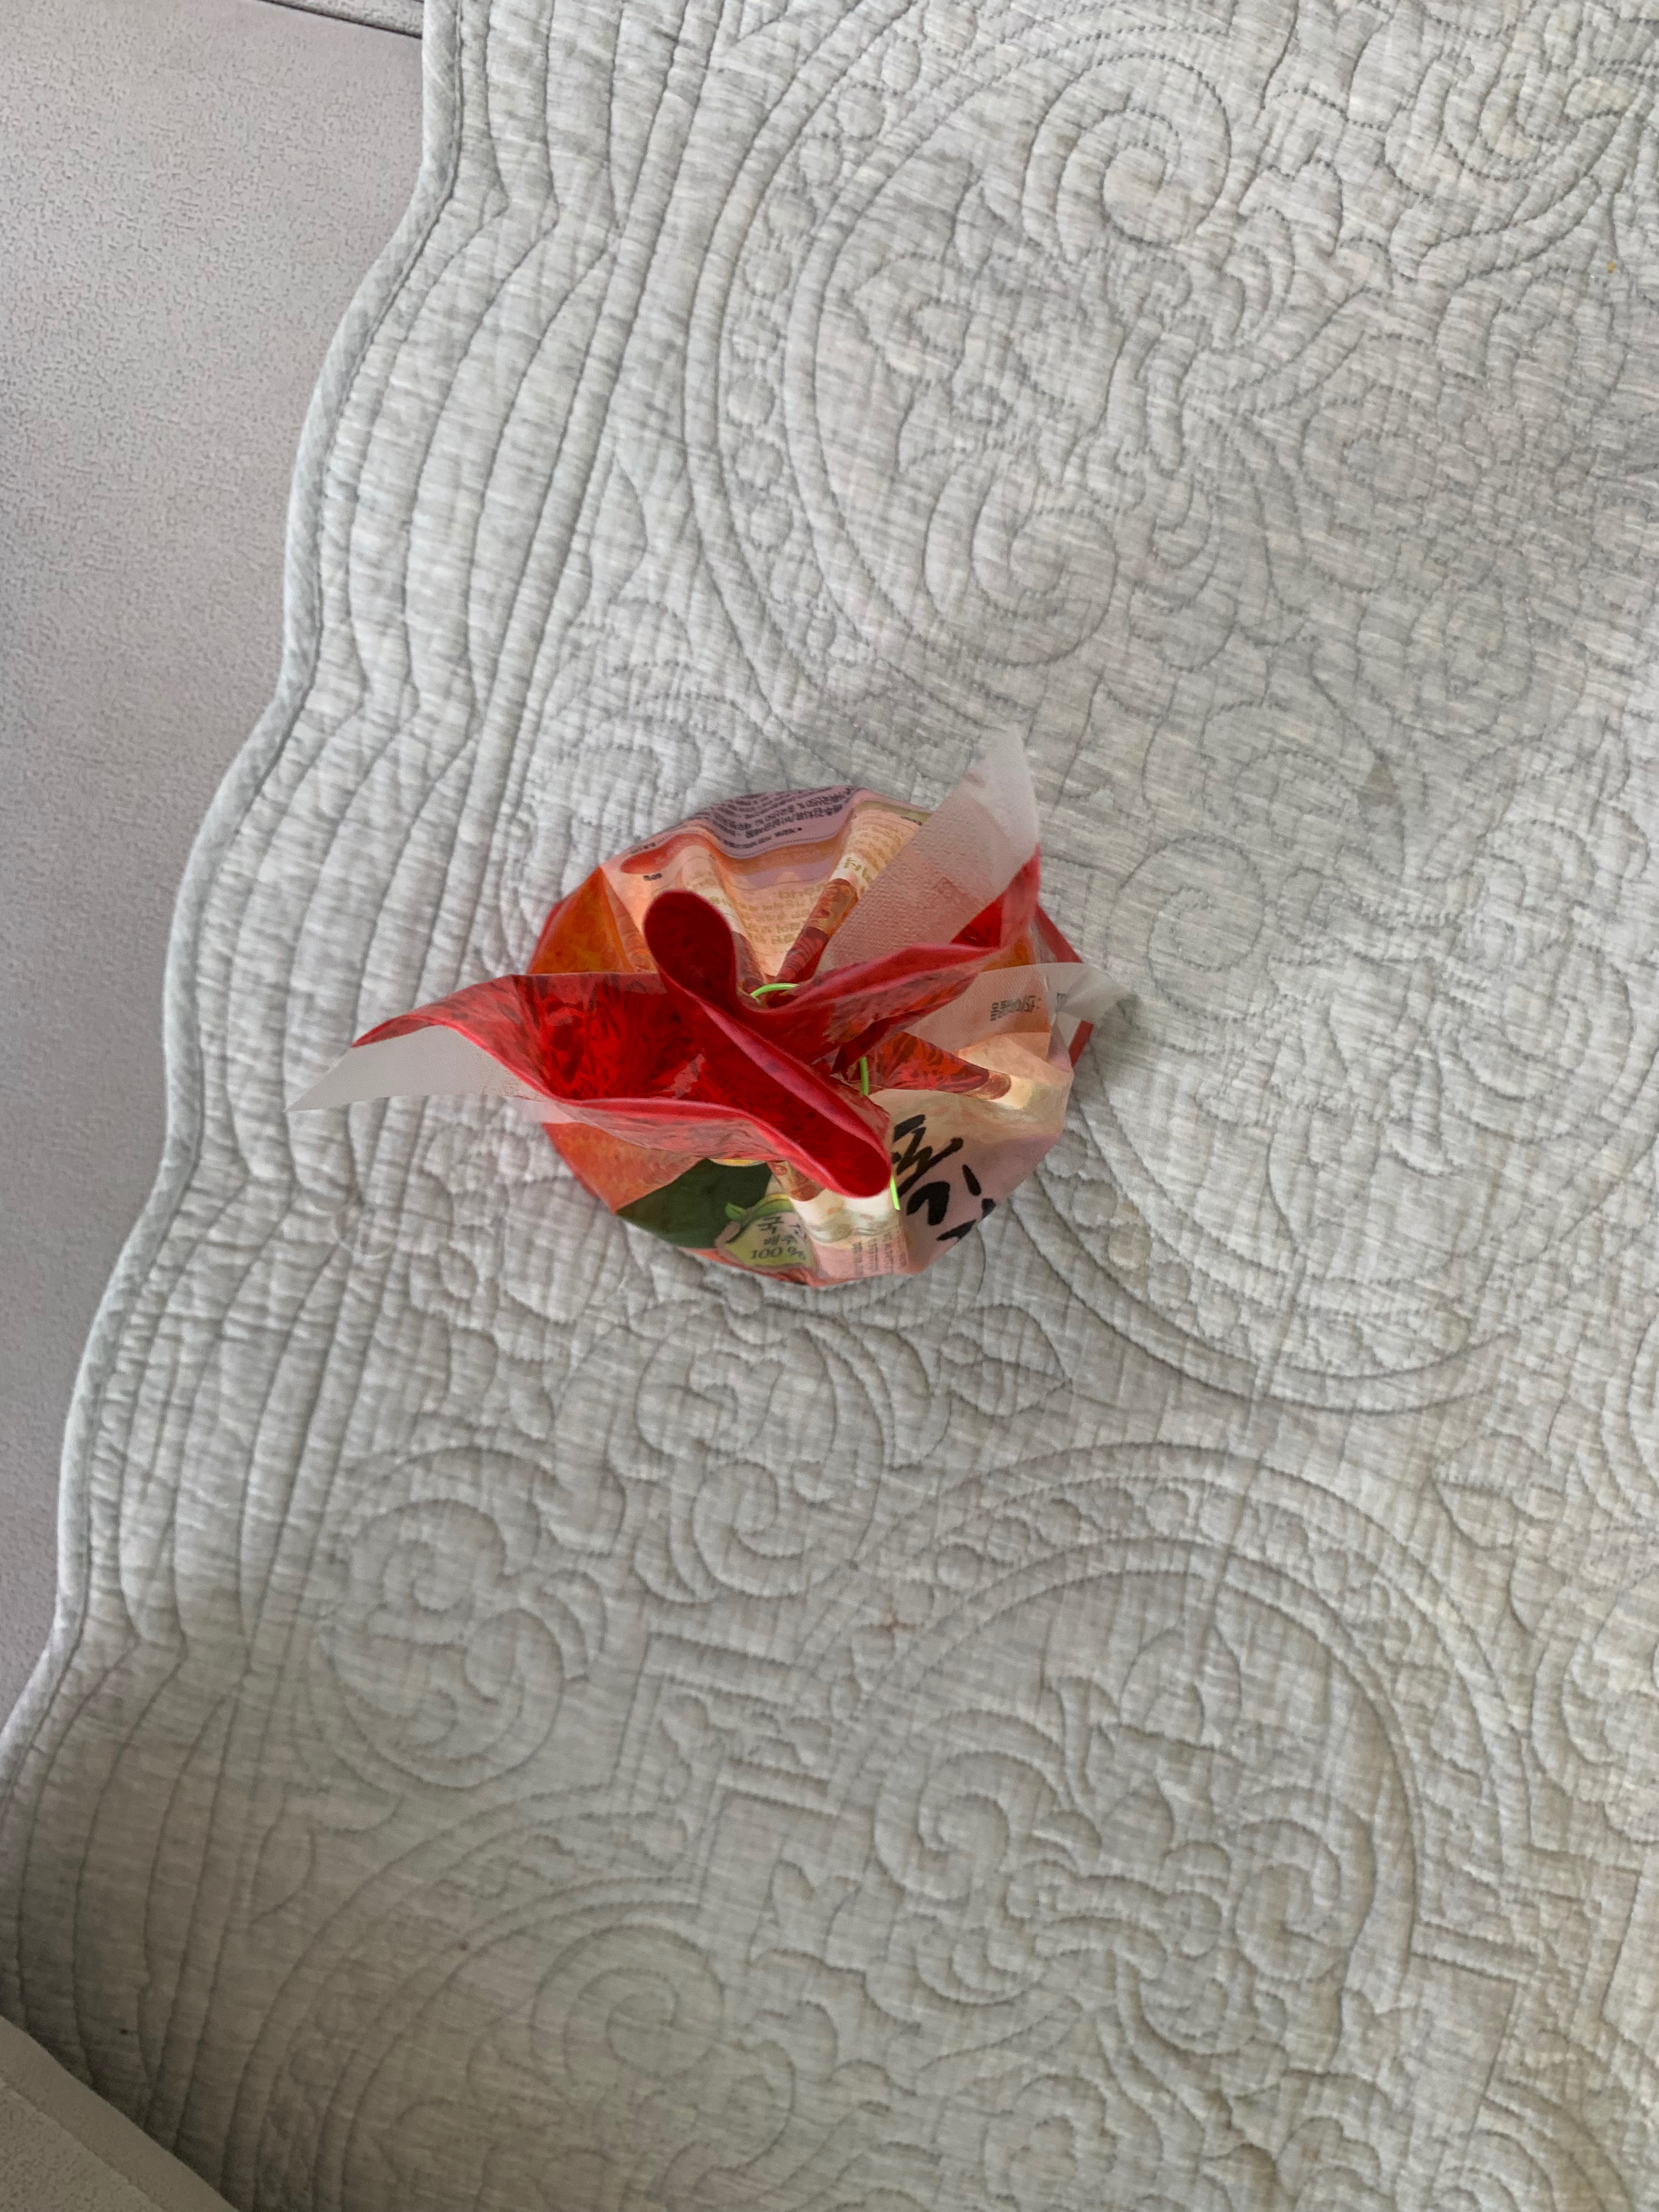kimchi: (514, 786, 1091, 1282)
